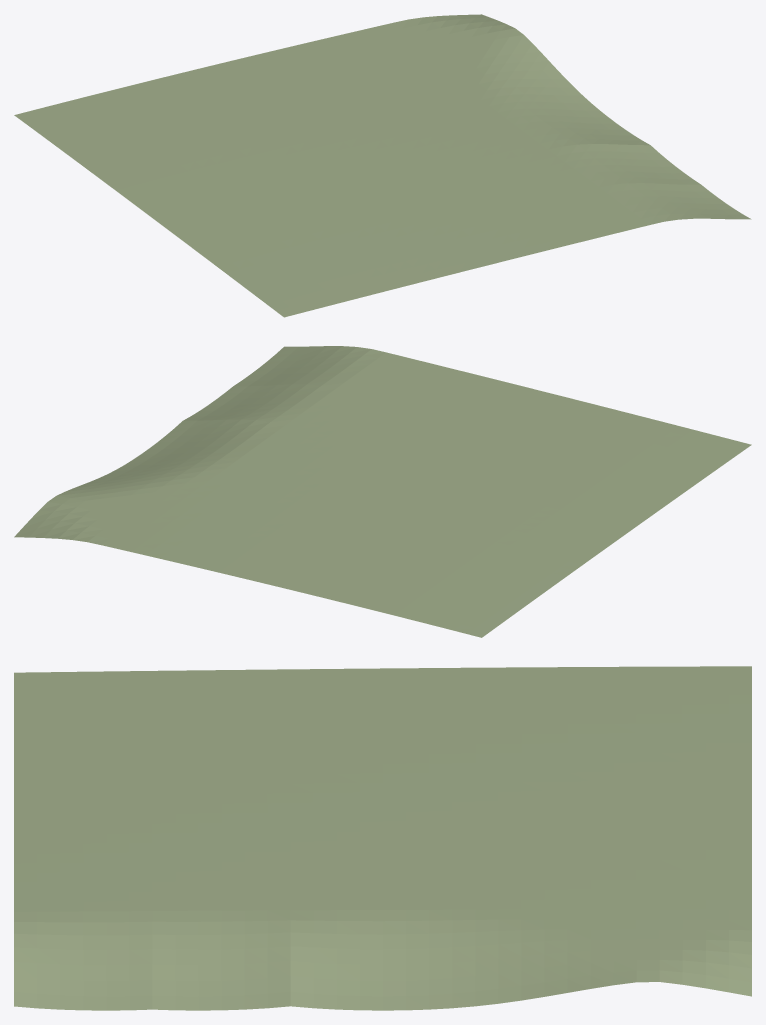
File: gardens-4-6.glb
The picture shows the model from 3 angles, top to bottom: view 1: azimuth 30°, elevation 25°; view 2: azimuth 150°, elevation 25°; view 3: azimuth 270°, elevation 25°; orthographic projection. The views are drawn at different scales.
Parts seen in each view (by area): view 1: gardens-4-6; view 2: gardens-4-6; view 3: gardens-4-6.
Part boxes in pixels (x1,y1,x2,y2): gardens-4-6: [14, 14, 751, 317]; gardens-4-6: [14, 346, 751, 637]; gardens-4-6: [14, 666, 751, 1010].
Size of the model in its own units: 256 by 13.1 by 256.
